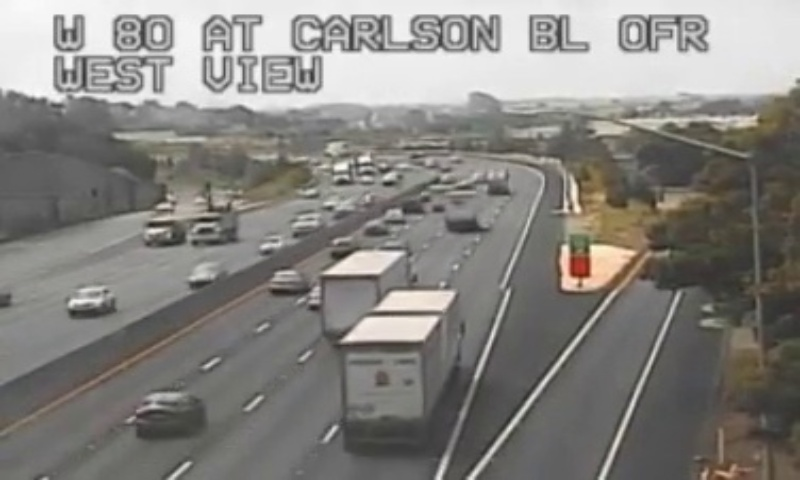car: (134, 391, 200, 434), (270, 270, 304, 294)
truck: (336, 288, 459, 447), (319, 249, 408, 341)
